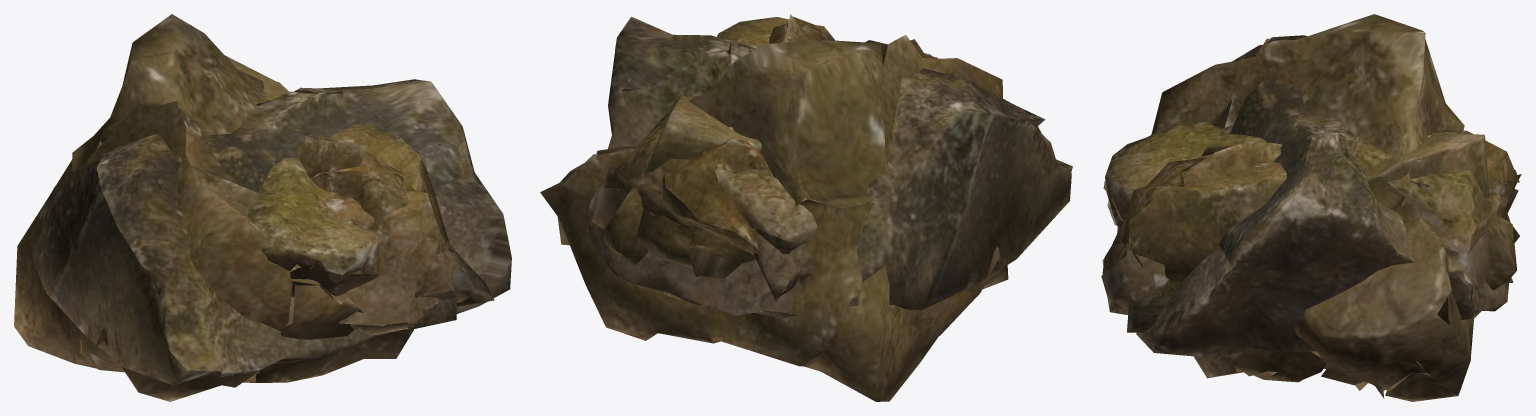
The model's file is granite.glb.
The picture shows the model from 3 angles, left to right: view 1: azimuth 30°, elevation 25°; view 2: azimuth 150°, elevation 25°; view 3: azimuth 270°, elevation 25°; orthographic projection. The views are drawn at different scales.
Visible parts, largest first — view 1: Granite 3, Granite 4, Granite 6, Granite 5, Granite 1, Granite 2; view 2: Granite 4, Granite 3, Granite 5, Granite 1, Granite 6, Granite 2; view 3: Granite 4, Granite 3, Granite 6, Granite 5, Granite 1, Granite 2.
Boxes of the visible parts, x1,y1,x2,y2 form: Granite 3: (33,79,511,385); Granite 4: (14,14,413,401); Granite 6: (224,55,453,335); Granite 5: (248,95,382,297); Granite 1: (299,134,476,302); Granite 2: (406,255,494,329); Granite 4: (540,35,1008,401); Granite 3: (588,16,1072,318); Granite 5: (591,40,932,278); Granite 1: (660,14,835,255); Granite 6: (600,16,814,266); Granite 2: (752,150,802,301); Granite 4: (1117,14,1481,401); Granite 3: (1106,45,1516,358); Granite 6: (1102,133,1516,304); Granite 5: (1103,121,1519,291); Granite 1: (1101,130,1521,311); Granite 2: (1107,188,1518,332).
Bounding box in the file's own units: 1.01 × 0.8361 × 1.01.
Materials: 1 (1 with a texture image).
